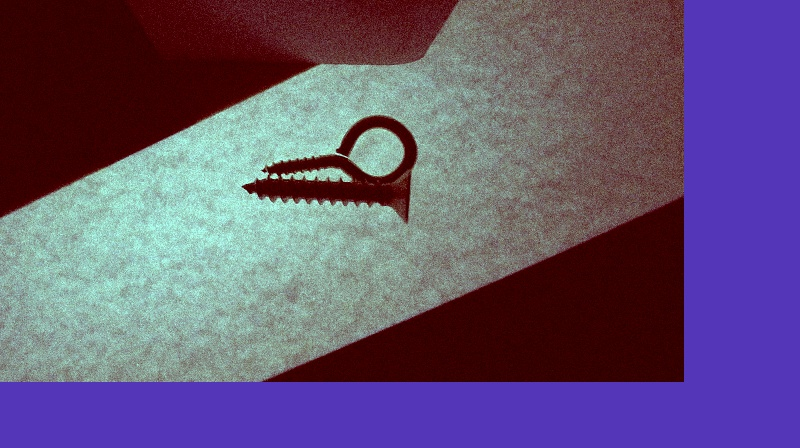O001: (259, 115, 415, 187)
S001: (239, 169, 412, 225)
